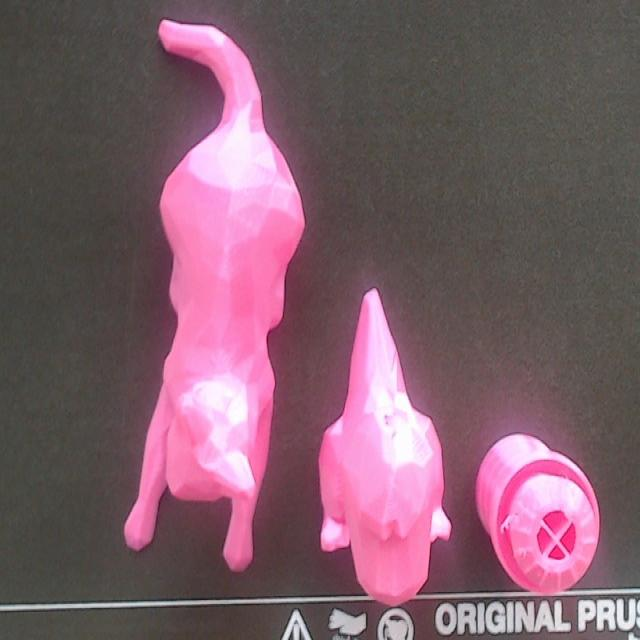mistake: (500, 516, 508, 532)
